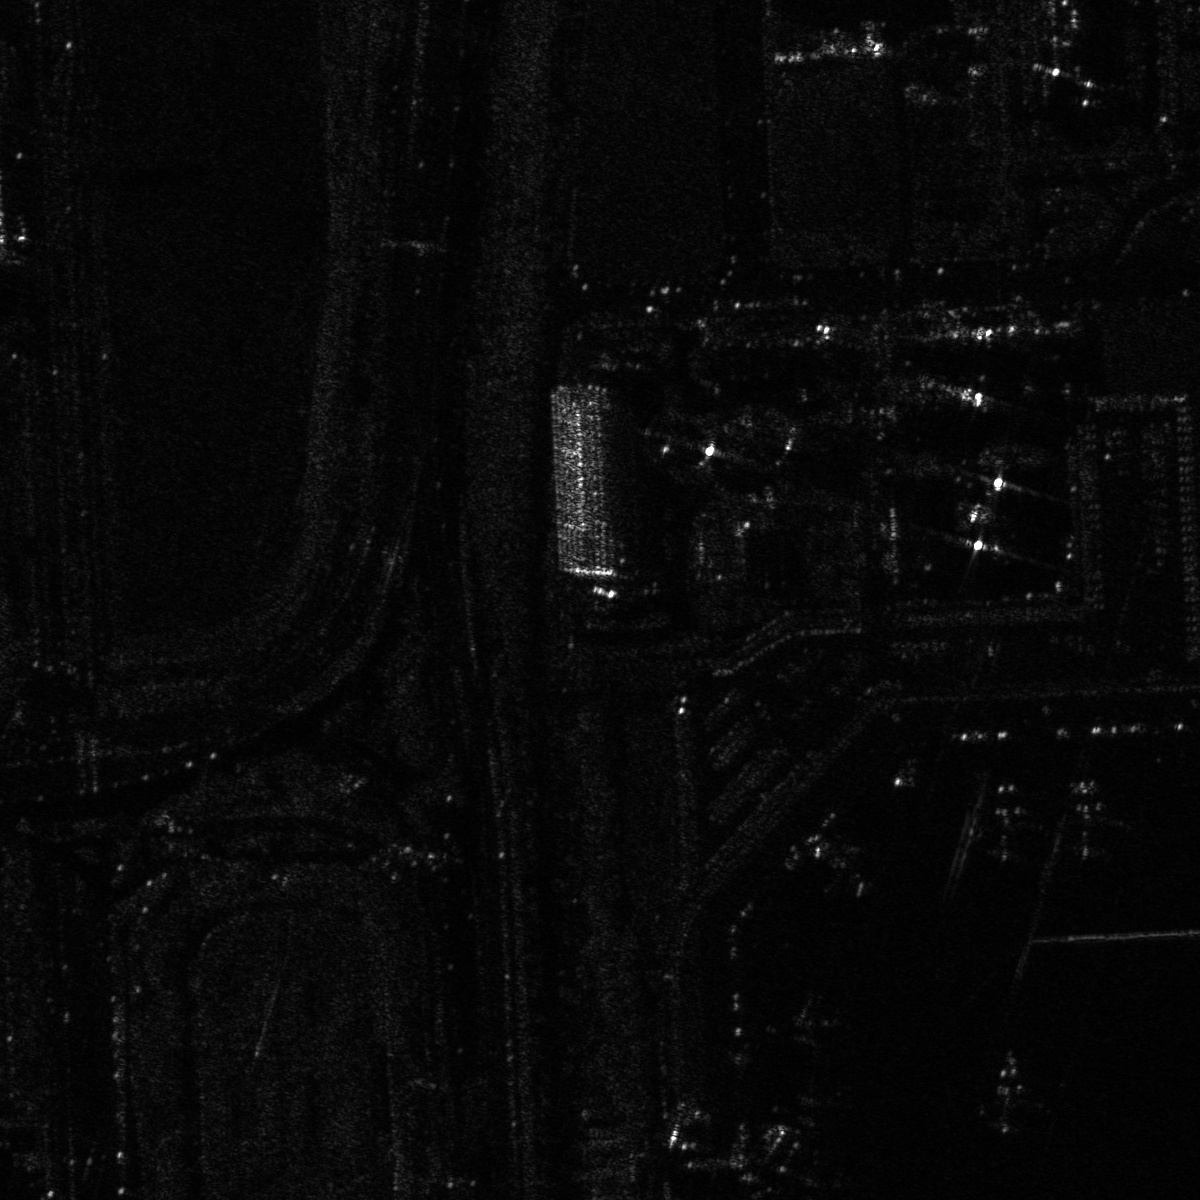A220: (757, 991, 844, 1052), (812, 838, 879, 900)
Boeing737: (1054, 768, 1136, 871), (960, 776, 1046, 867)
other: (968, 1049, 1052, 1137)
